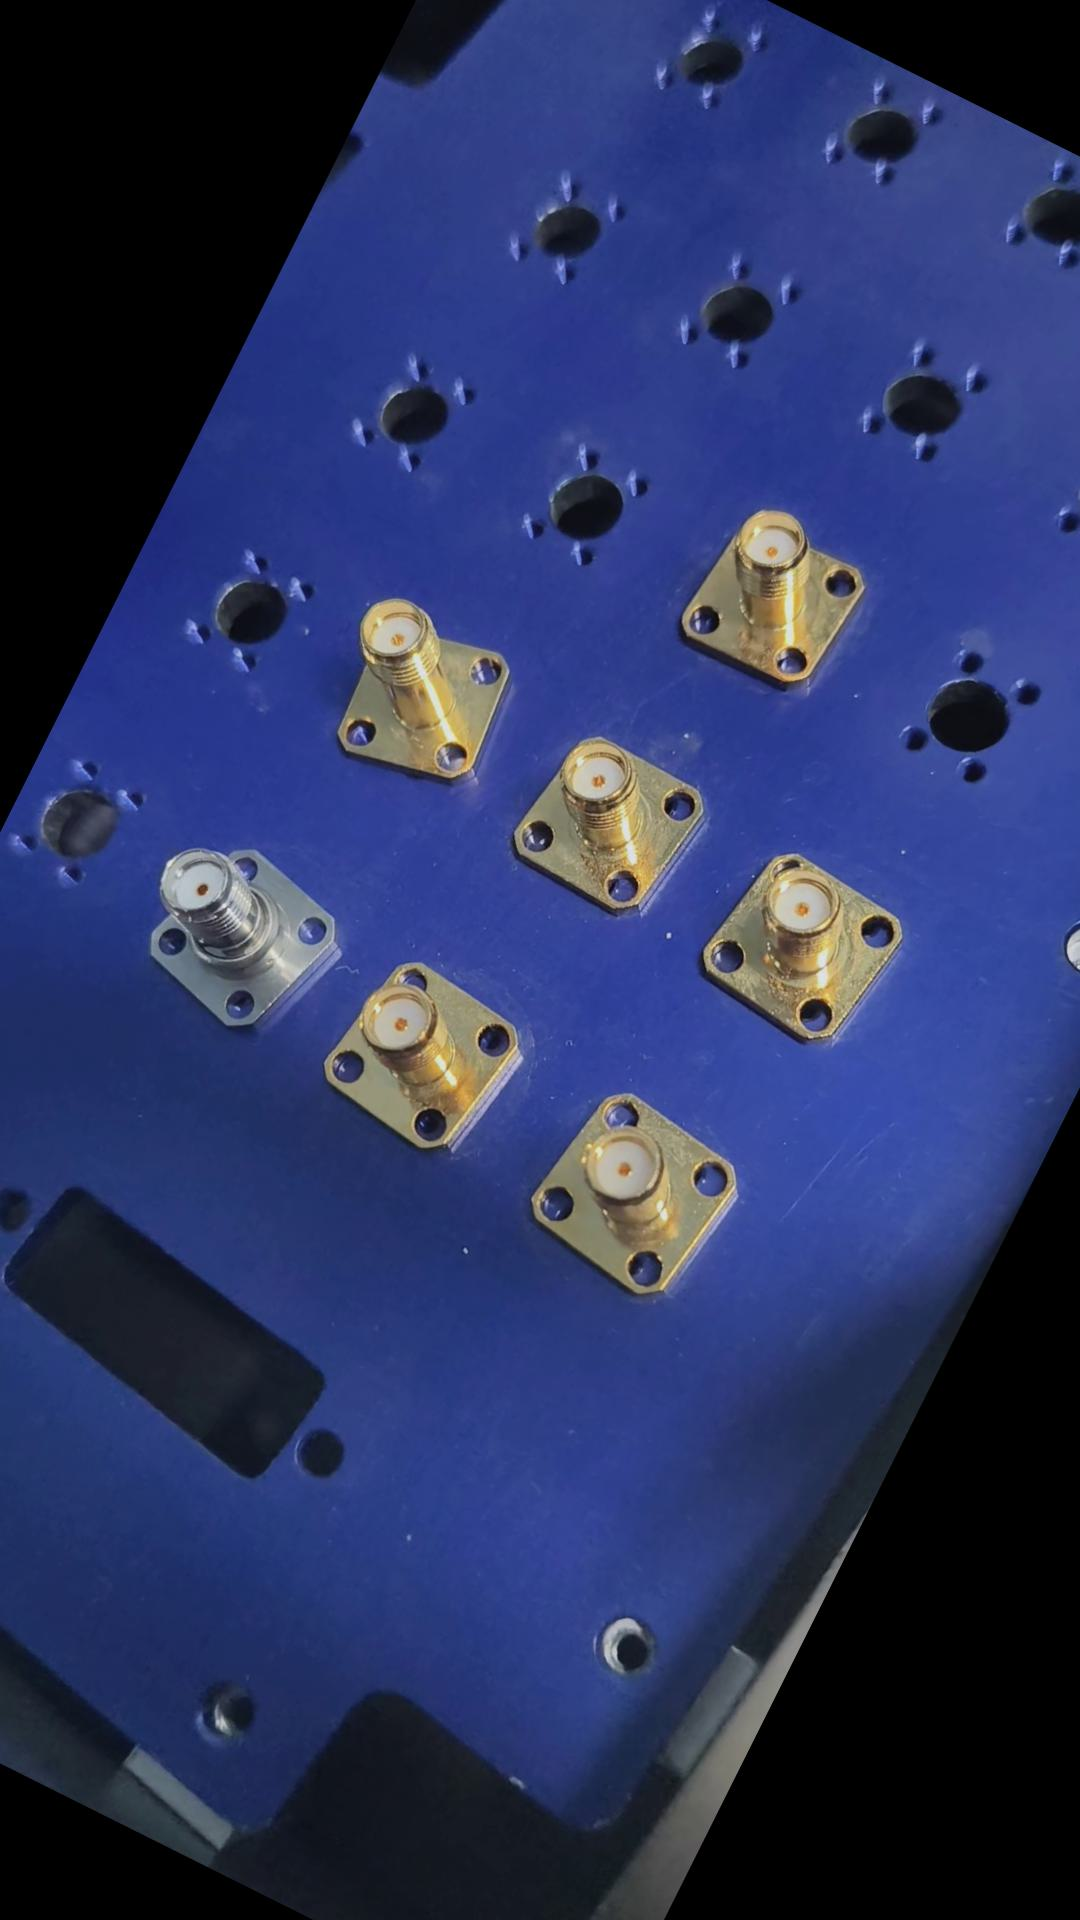SMA: (500, 1067, 757, 1323), (108, 814, 361, 1058), (302, 934, 539, 1172), (684, 828, 920, 1056), (299, 583, 529, 810), (497, 715, 721, 936), (661, 487, 885, 705)
